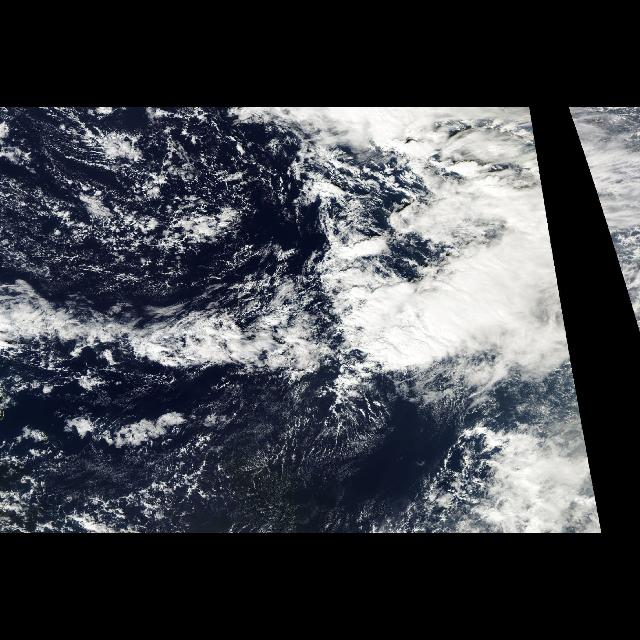Gravel: (2, 111, 374, 533)
